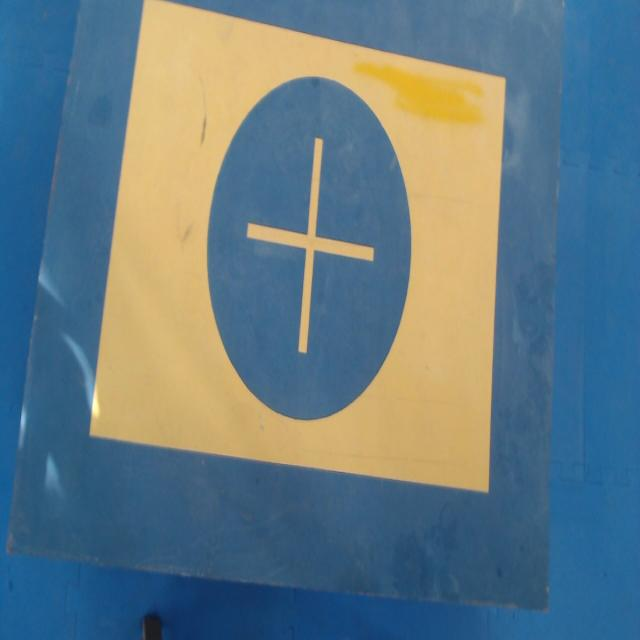base_inicio: (90, 0, 505, 492)
